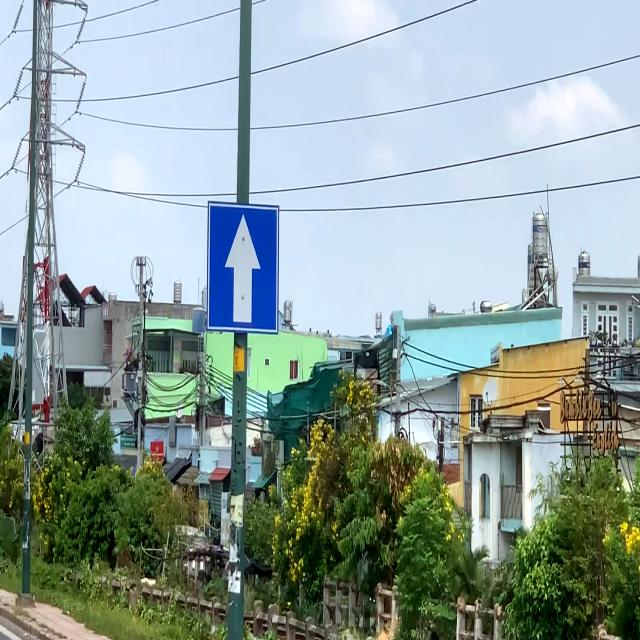R.407a: (205, 198, 280, 336)
